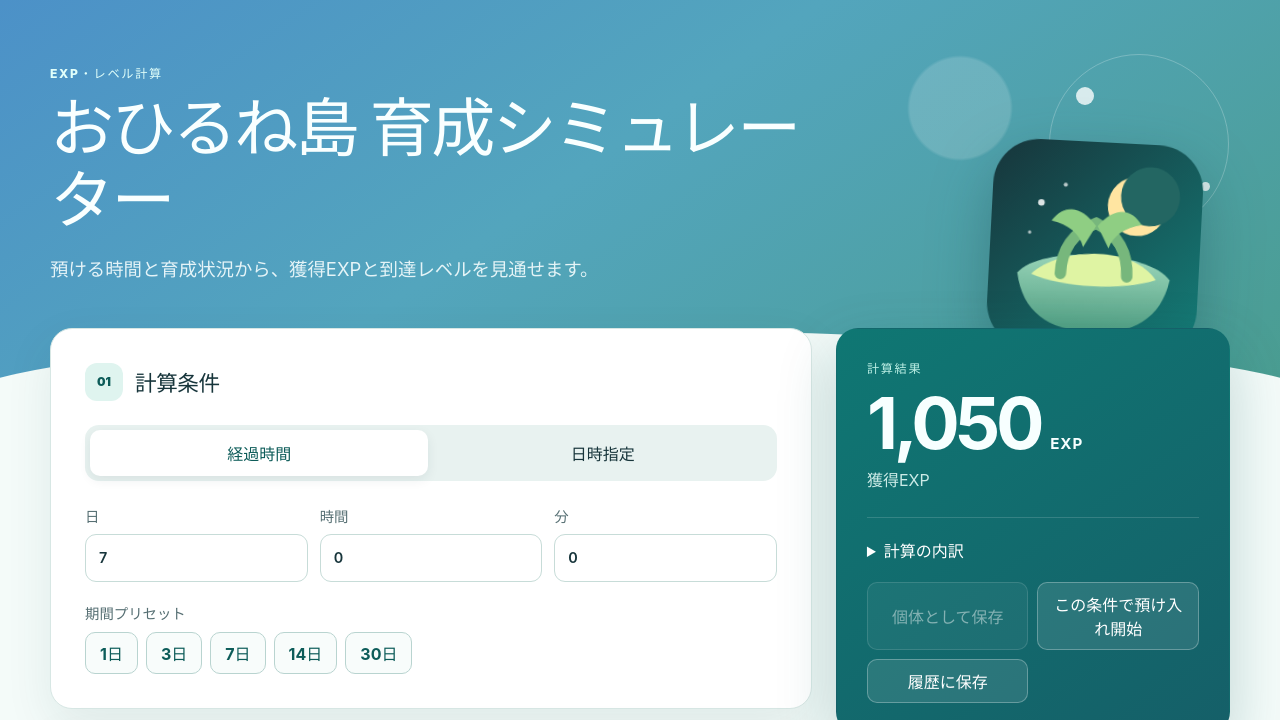
it: CalculatorPage › recalculates when a duration preset and relax ticket are selected
Click the button "3日".
click(174, 652)  # box [146,632,202,674]
(page scrolled)
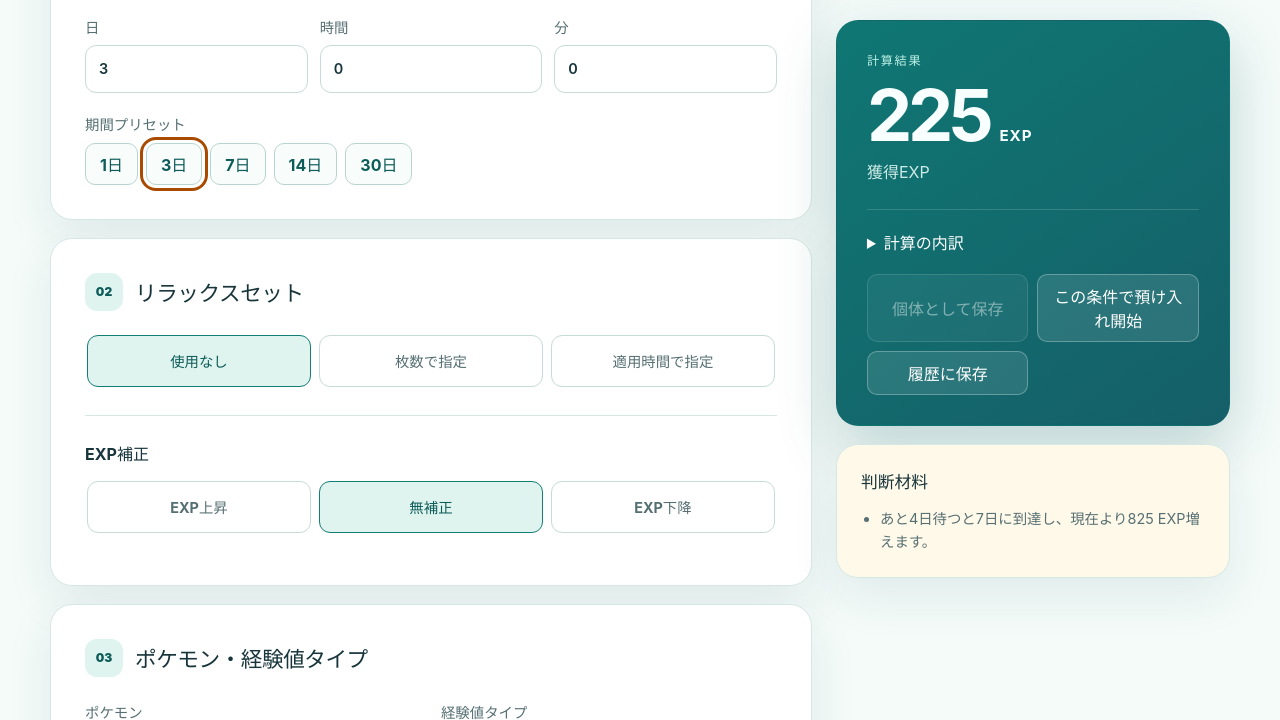
Expected: the text with test id "gained-exp" reads "225", [867,71,989,158]
Click the radio button labelled "枚数で指定".
click(431, 360)  # box [319,334,543,386]
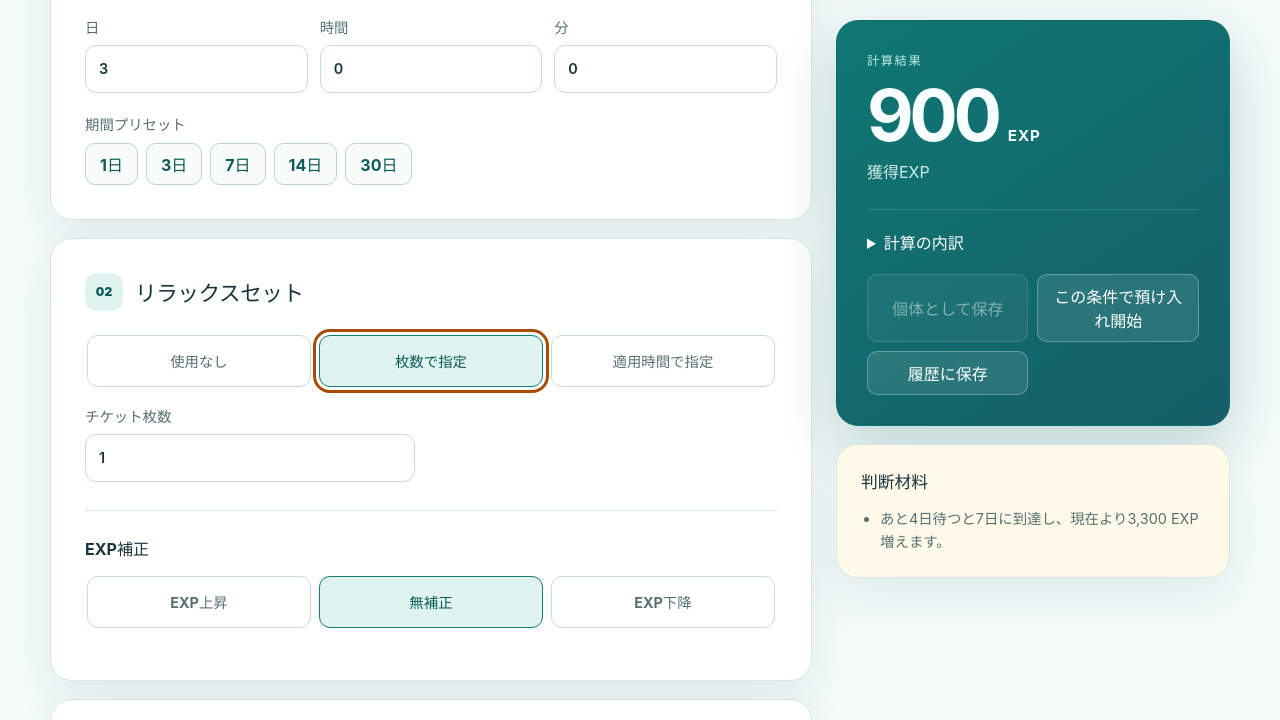
Expected: the text with test id "gained-exp" reads "900", [867,71,998,158]
